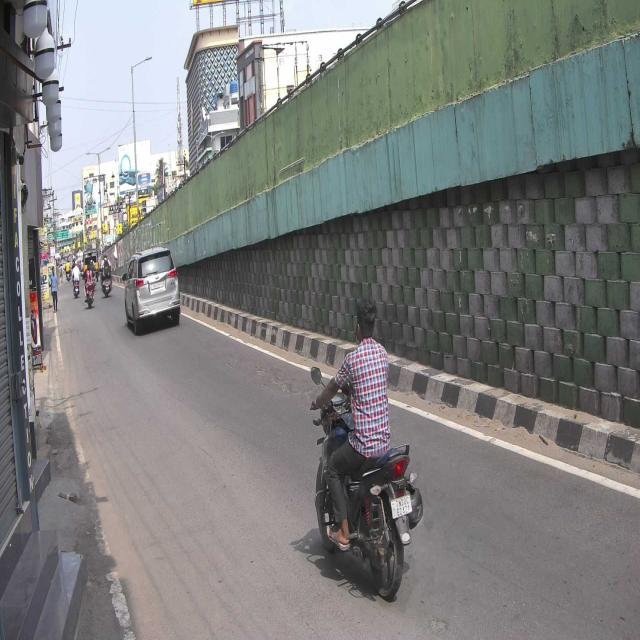single_rider: (309, 293, 415, 602)
